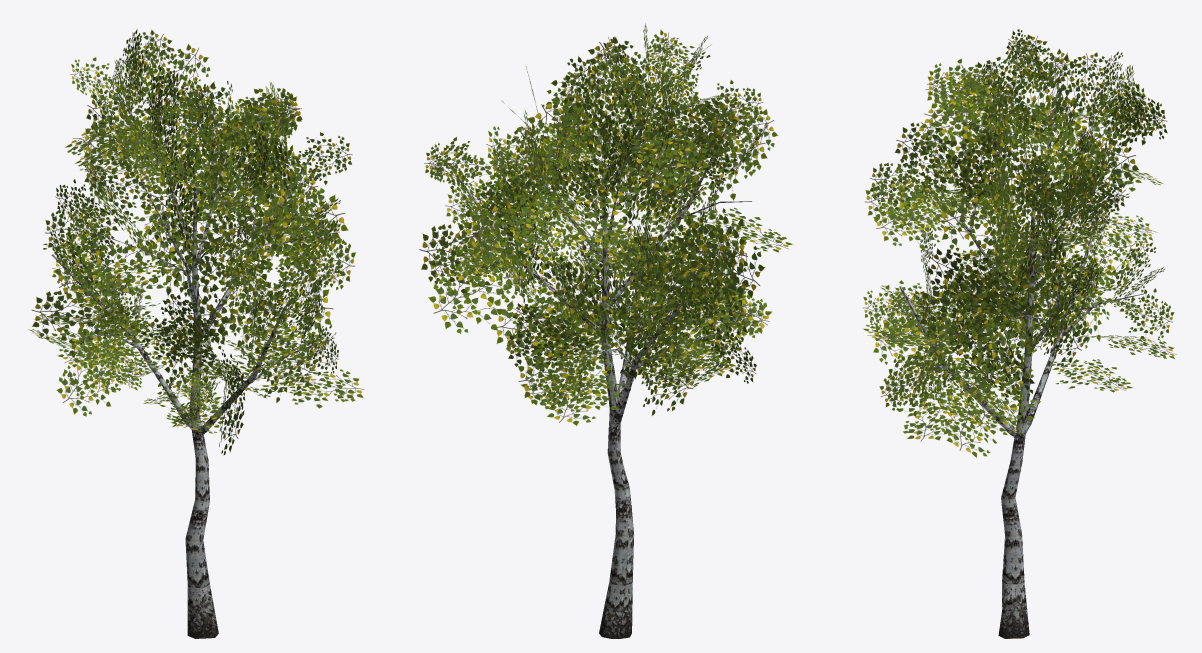
File: Tree-Variant-1.glb
The picture shows the model from 3 angles, left to right: view 1: azimuth 30°, elevation 25°; view 2: azimuth 150°, elevation 25°; view 3: azimuth 270°, elevation 25°; orthographic projection. The views are drawn at different scales.
Visible parts, largest first — view 1: Tree-Variant-1.001; view 2: Tree-Variant-1.001; view 3: Tree-Variant-1.001.
Boxes of the visible parts, left/top/right/bottom form: Tree-Variant-1.001: left=28, top=29, right=364, bottom=638; Tree-Variant-1.001: left=419, top=23, right=793, bottom=638; Tree-Variant-1.001: left=862, top=29, right=1176, bottom=638.
Size of the model in its own units: 14.6 by 26.35 by 13.75.
1 material, 1 textured.
